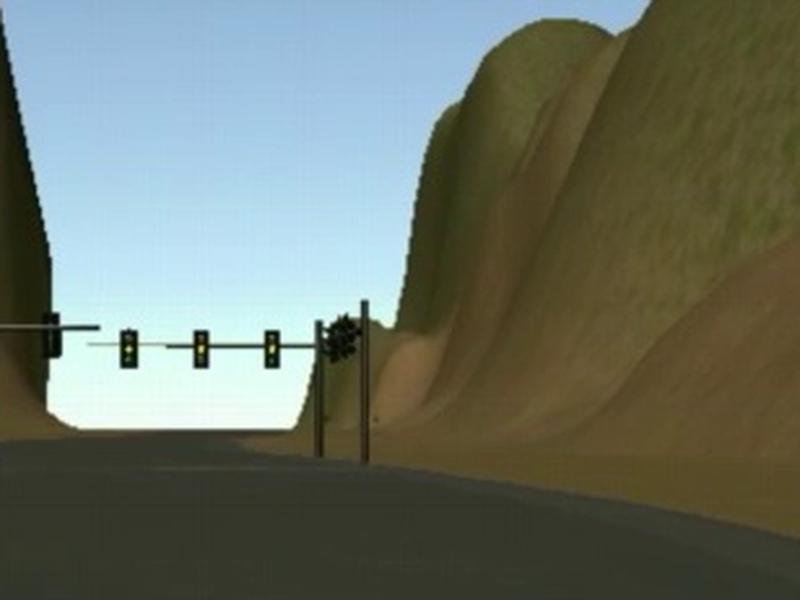Yellow: (119, 329, 137, 368), (192, 329, 209, 367), (264, 329, 279, 368)
